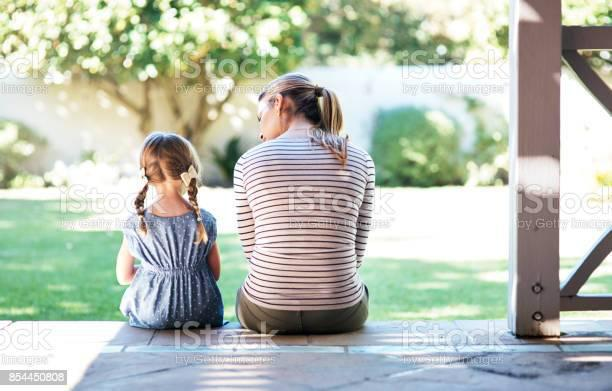child: (101, 126, 238, 338)
